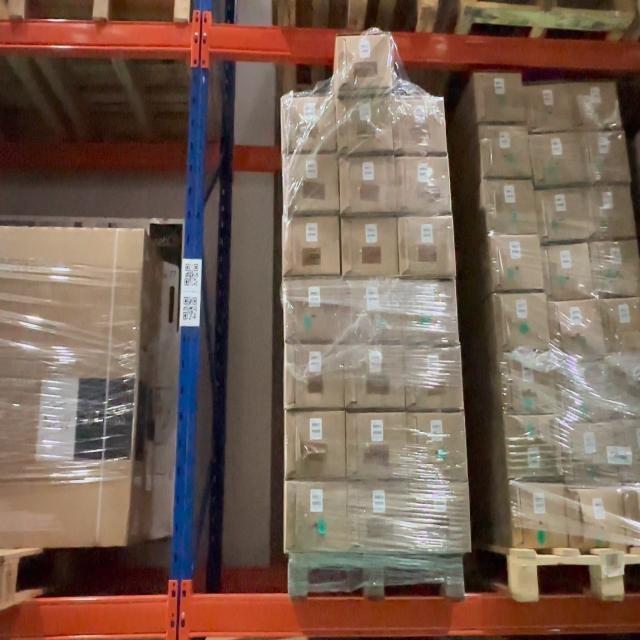box: (286, 481, 344, 552), (286, 411, 344, 479), (285, 344, 343, 408), (347, 414, 404, 479), (412, 482, 468, 548), (348, 484, 408, 545), (410, 412, 464, 478), (512, 483, 566, 548), (345, 346, 402, 407), (286, 278, 341, 341), (407, 347, 461, 409), (403, 280, 455, 344), (343, 279, 398, 339), (284, 216, 338, 275), (401, 216, 453, 276), (569, 486, 621, 545), (507, 416, 558, 476), (286, 153, 336, 213), (281, 98, 336, 152), (343, 218, 396, 274), (396, 158, 450, 212), (341, 156, 394, 211), (561, 363, 607, 423), (337, 98, 392, 148), (498, 294, 544, 352), (566, 425, 612, 483), (339, 35, 390, 87), (553, 302, 598, 359), (395, 99, 443, 151), (505, 358, 552, 410), (494, 236, 539, 290), (596, 240, 636, 298), (486, 180, 532, 230), (547, 242, 587, 298), (540, 188, 582, 241), (483, 127, 527, 177), (582, 131, 626, 180), (537, 134, 578, 184), (589, 188, 630, 236), (570, 84, 616, 126), (480, 75, 520, 121), (606, 298, 640, 352), (611, 354, 640, 416), (530, 86, 569, 131), (621, 421, 640, 484)
